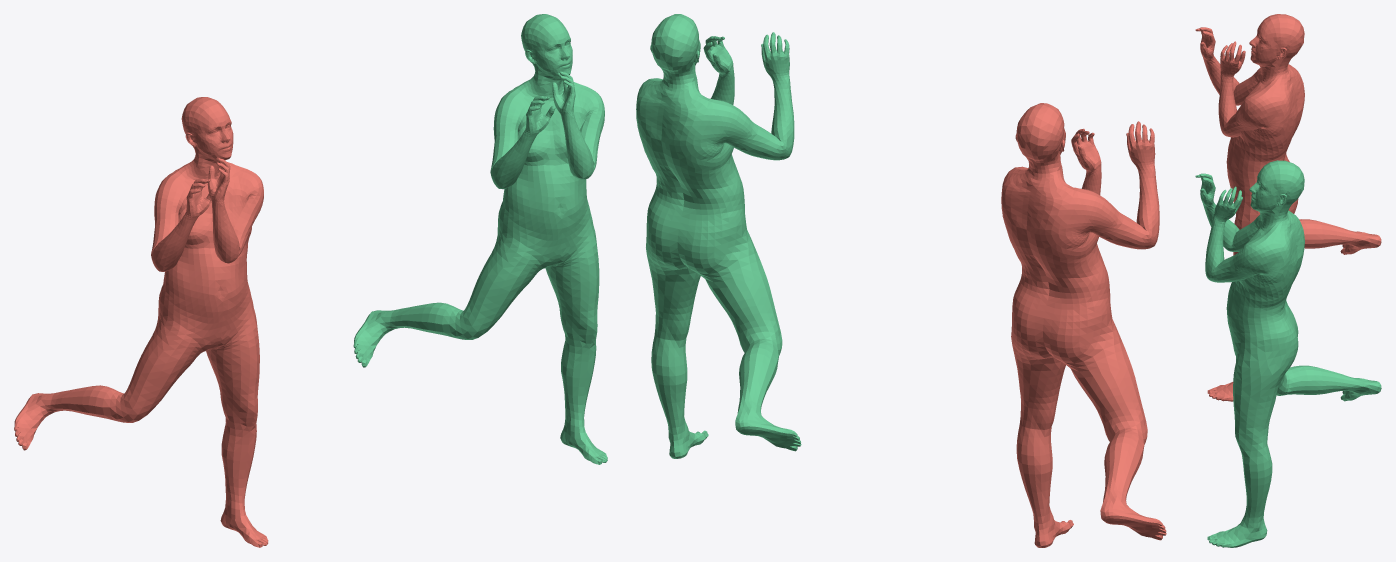
The model's file is pose_221_before_after.glb.
3 renders of one model, left to right at view 1: azimuth 30°, elevation 25°; view 2: azimuth 150°, elevation 25°; view 3: azimuth 270°, elevation 25°, orthographic. The views are drawn at different scales.
Visible parts, largest first — view 1: poseshield_green, input_red; view 2: poseshield_green, input_red; view 3: poseshield_green, input_red.
Boxes of the visible parts, x1,y1,x2,y2 form: poseshield_green: (353, 14, 607, 464); input_red: (14, 97, 268, 547); poseshield_green: (636, 14, 801, 458); input_red: (1001, 103, 1166, 547); poseshield_green: (1195, 160, 1381, 547); input_red: (1195, 14, 1381, 401).
Size of what is drawn, in the model's own units: 2.27 by 1.72 by 0.7732.
